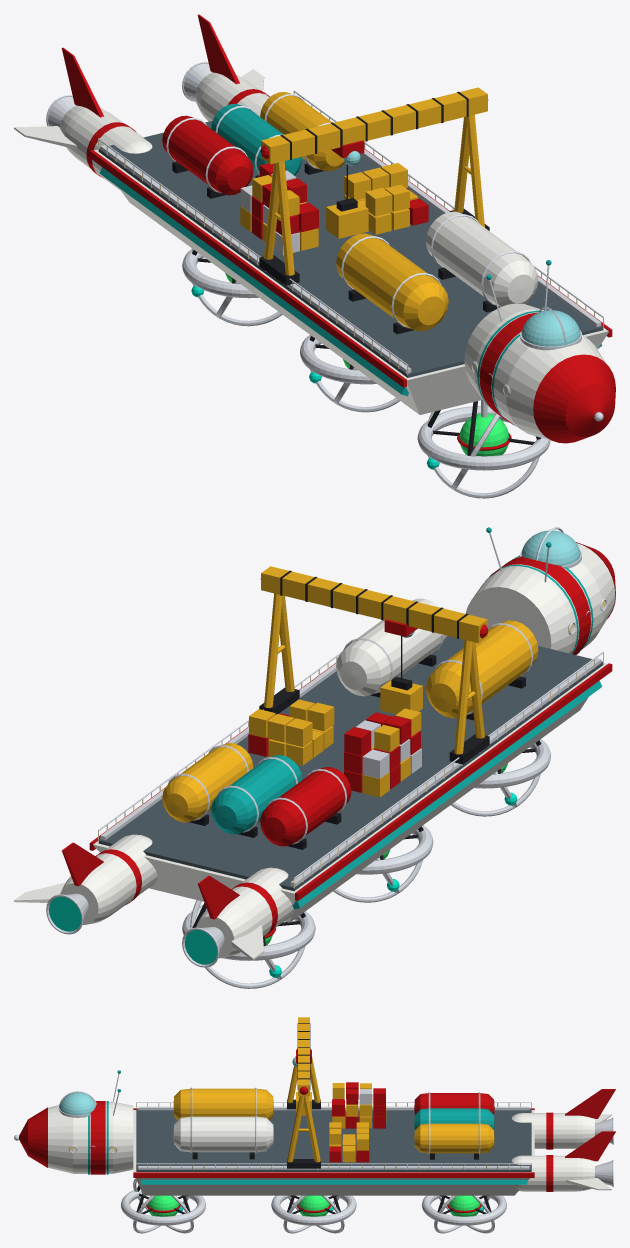
File: cargo_barge.obj
The picture shows the model from 3 angles, top to bottom: view 1: azimuth 30°, elevation 25°; view 2: azimuth 150°, elevation 25°; view 3: azimuth 270°, elevation 25°; orthographic projection. The views are drawn at different scales.
Parts seen in each view (by area): view 1: cargo_barge; view 2: cargo_barge; view 3: cargo_barge.
Part boxes in pixels (x1=…): cargo_barge: x1=14, y1=14, x2=615, y2=498; cargo_barge: x1=14, y1=527, x2=615, y2=988; cargo_barge: x1=14, y1=1017, x2=615, y2=1233.
Size of the model in its own units: 176 by 203 by 600.
Materials: 1 (1 with a texture image).
